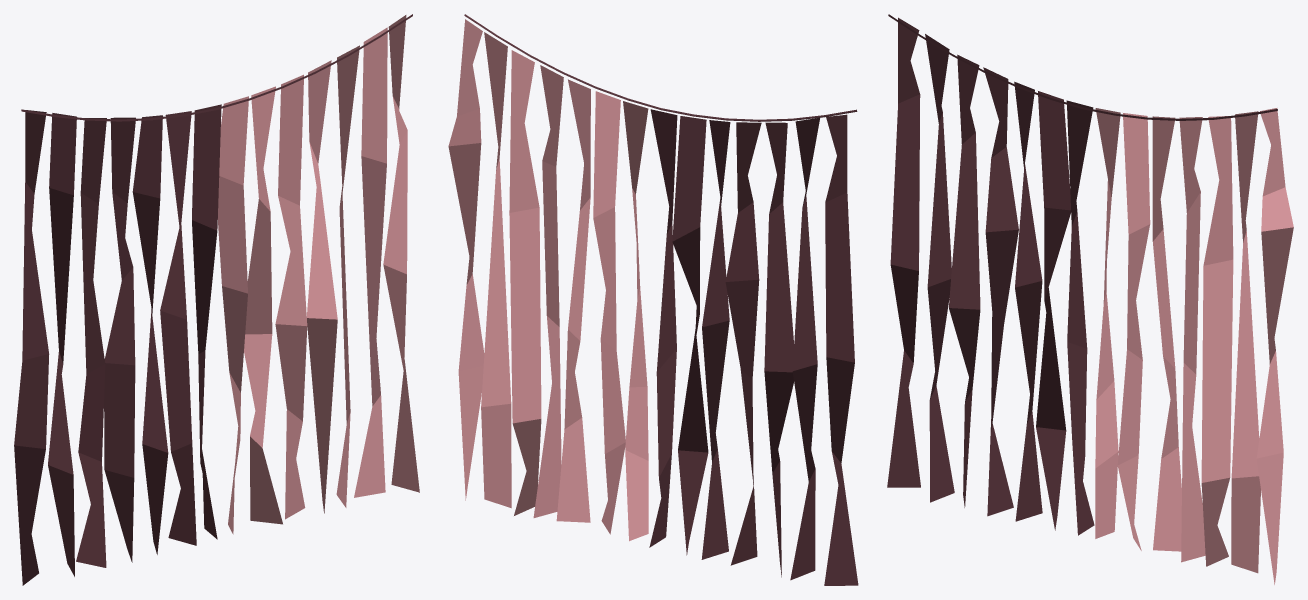
The model's file is celebration-wall-half-big.fbx.
The picture shows the model from 3 angles, left to right: view 1: azimuth 30°, elevation 25°; view 2: azimuth 150°, elevation 25°; view 3: azimuth 330°, elevation 25°; orthographic projection.
Visible parts, largest first — view 1: celebration-wall-half-big; view 2: celebration-wall-half-big; view 3: celebration-wall-half-big.
Boxes of the visible parts, x1,y1,x2,y2 form: celebration-wall-half-big: (14,14,419,585); celebration-wall-half-big: (448,14,858,585); celebration-wall-half-big: (887,14,1293,584).
Size of the model in its own units: 2.54 by 2.9 by 0.2288.
